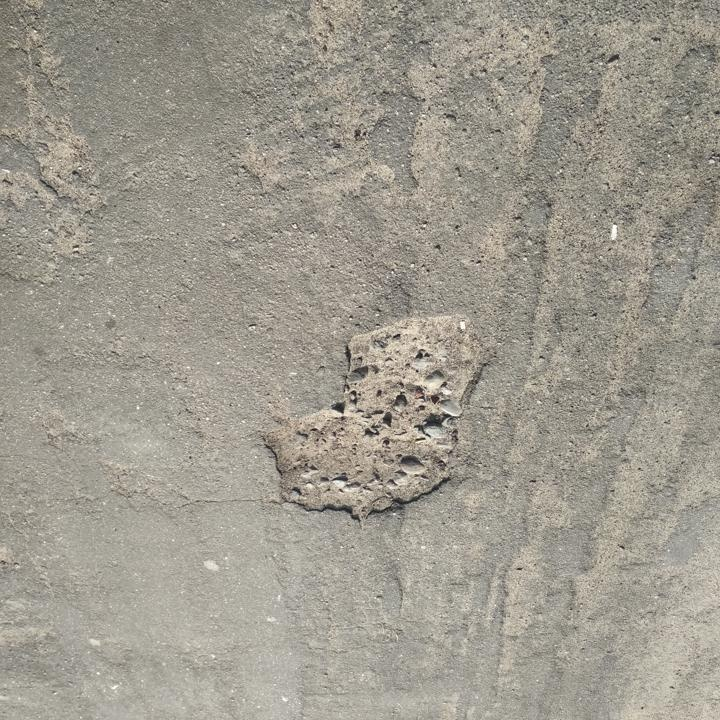pothole: (256, 306, 493, 525)
